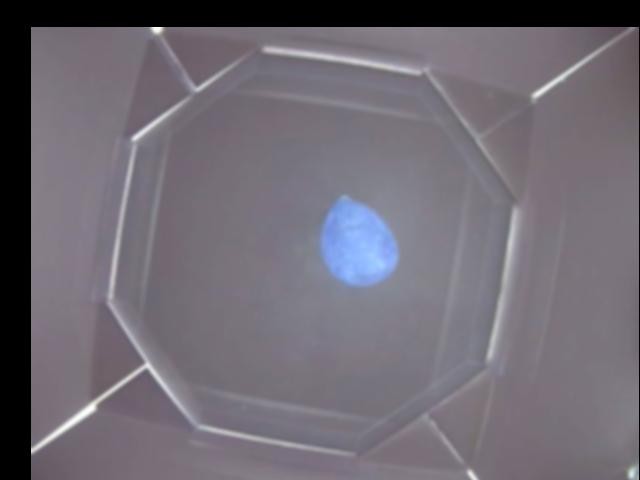Potato: (323, 192, 400, 285)
